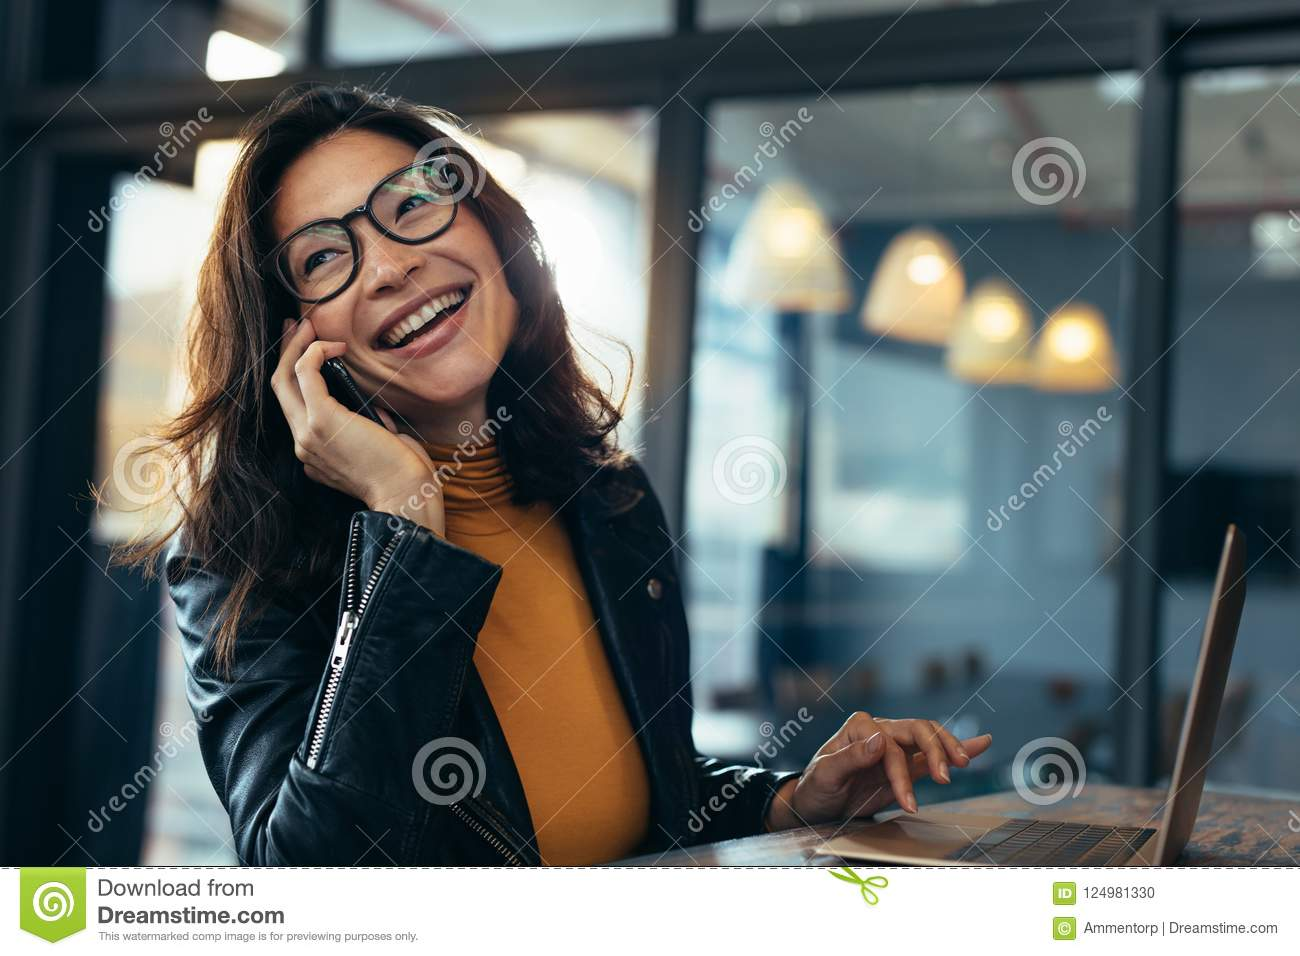talk: (276, 163, 520, 537)
